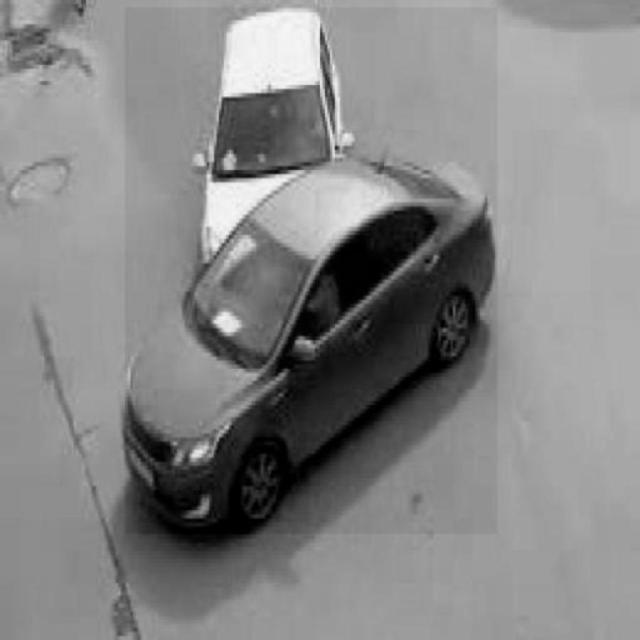accident: (126, 8, 498, 534)
